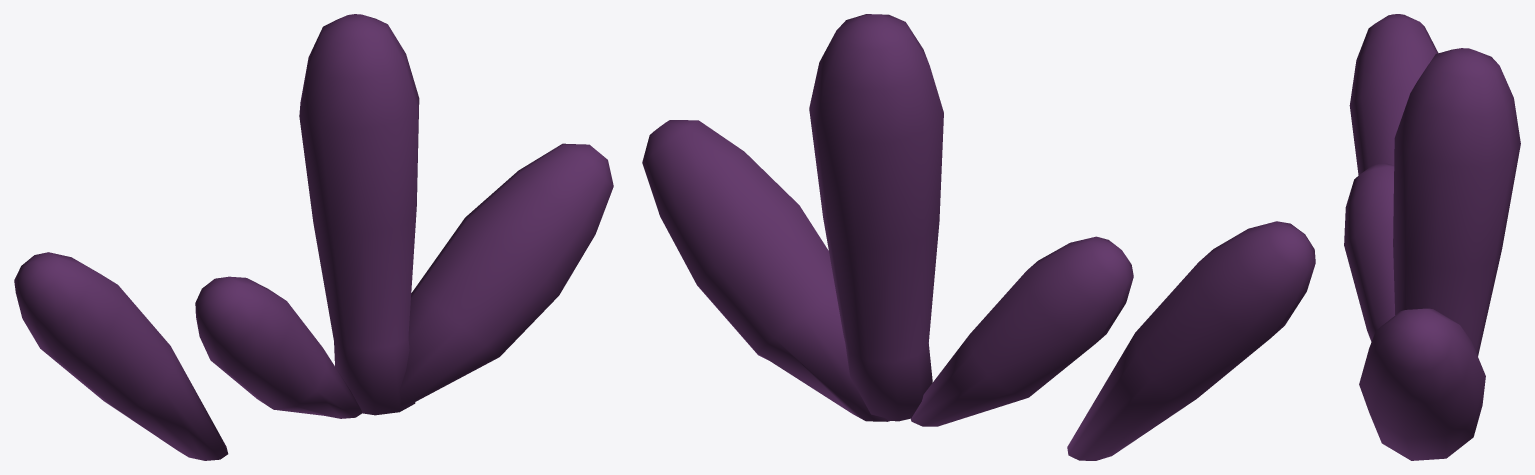
File: purplePlant.glb
The picture shows the model from 3 angles, left to right: view 1: azimuth 30°, elevation 25°; view 2: azimuth 150°, elevation 25°; view 3: azimuth 270°, elevation 25°; orthographic projection. The views are drawn at different scales.
Parts seen in each view (by area): view 1: node_id30; view 2: node_id30; view 3: node_id30.
Part boxes in pixels (x1=…): node_id30: x1=14, y1=14, x2=613, y2=460; node_id30: x1=642, y1=14, x2=1315, y2=460; node_id30: x1=1344, y1=14, x2=1520, y2=460.
Bounding box in the file's own units: 0.1911 × 0.1125 × 0.0481.
Materials: 1 (1 with a texture image).
